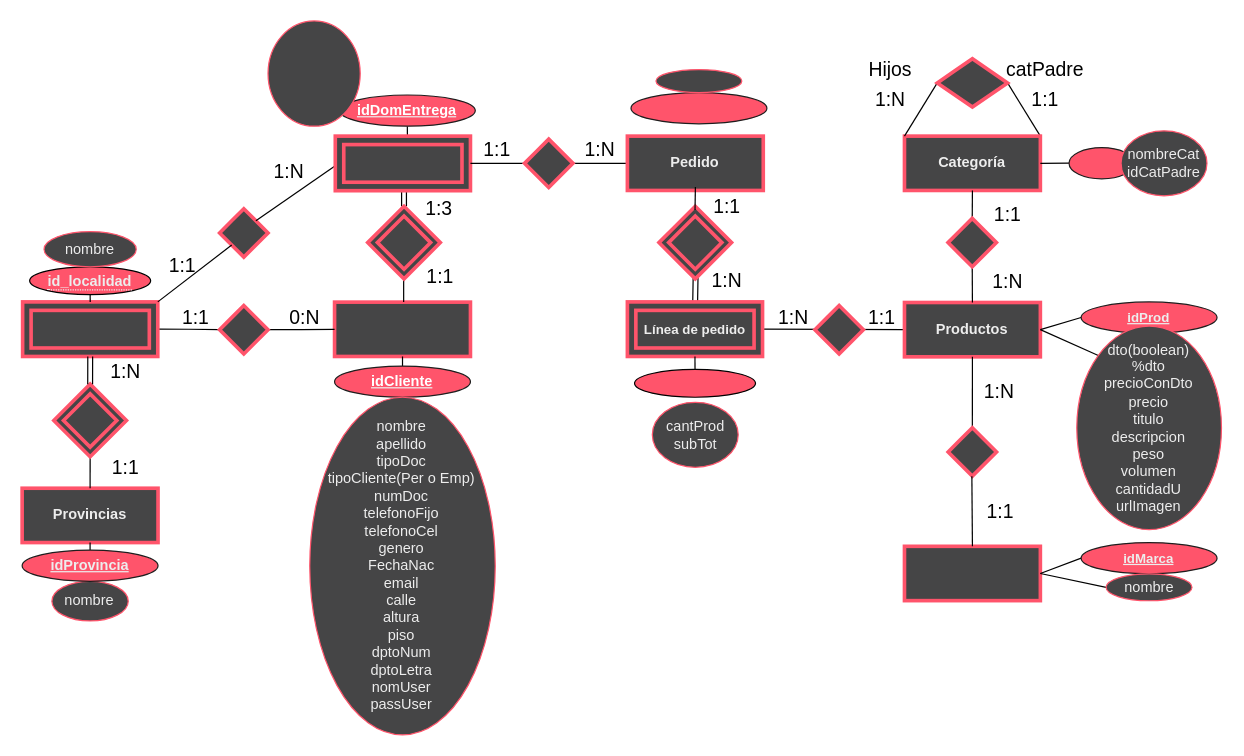
This 1244x756 diagram has some shape labels left out. The shapes that lost their labels are listed below. From the top down, each one's box as (x1, y1, x2, y2) in pixels, then its label:
(267, 20, 360, 126): calle altura piso numDto letraDto
(655, 68, 742, 93): total
(630, 91, 767, 124): idPedido
(333, 134, 472, 192): Domicilio de entrega
(1068, 146, 1134, 179): idCat
(20, 299, 159, 358): Localidades
(332, 300, 472, 358): Clientes
(633, 368, 756, 397): numLinea
(902, 544, 1042, 602): Marca
